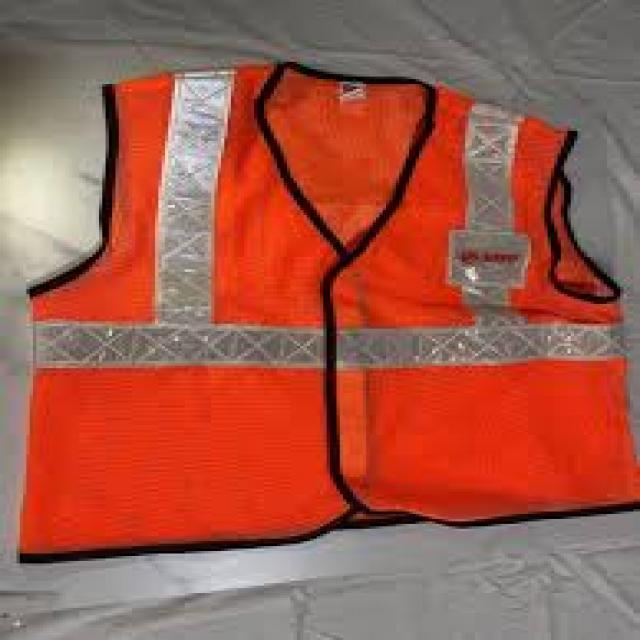construction-vest: (24, 60, 637, 562)
